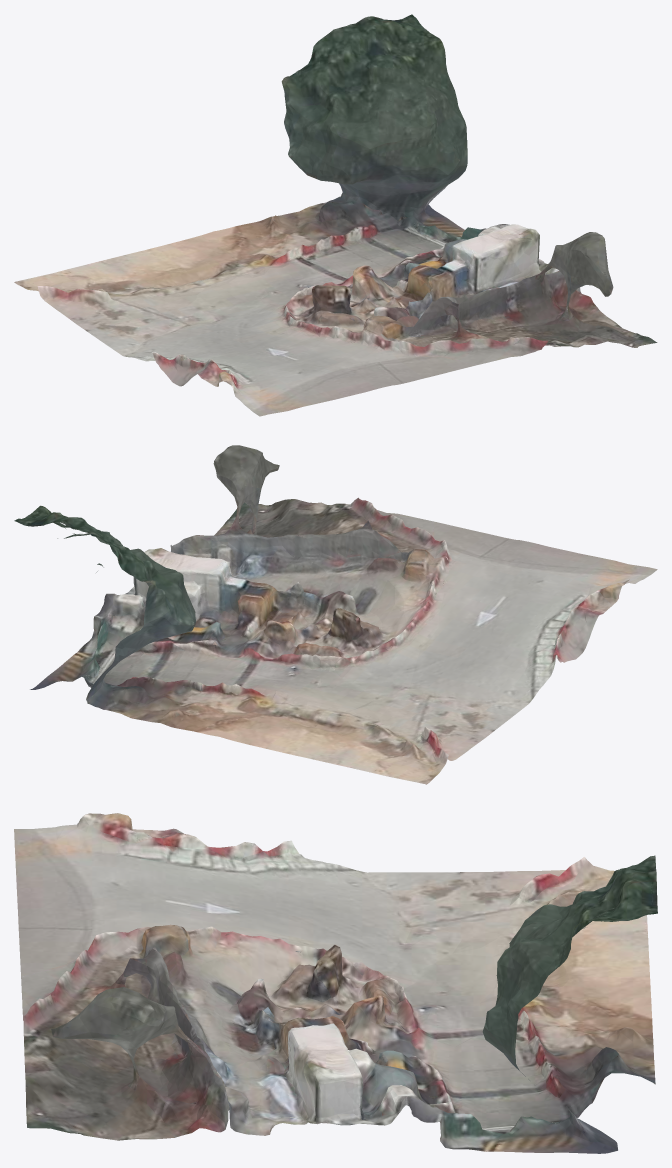
Rendered from Tile_+012_+009_L21_0000031100.glb.
The picture shows the model from 3 angles, top to bottom: view 1: azimuth 30°, elevation 25°; view 2: azimuth 150°, elevation 25°; view 3: azimuth 270°, elevation 25°; orthographic projection. The views are drawn at different scales.
Parts seen in each view (by area): view 1: rtc; view 2: rtc; view 3: rtc.
Boxes of the visible parts, x1,y1,x2,y2 form: rtc: (14,14,657,416); rtc: (14,445,657,784); rtc: (14,813,657,1153).
Bounding box in the file's own units: 32.02 × 14.06 × 32.61.
Materials: 1 (1 with a texture image).
